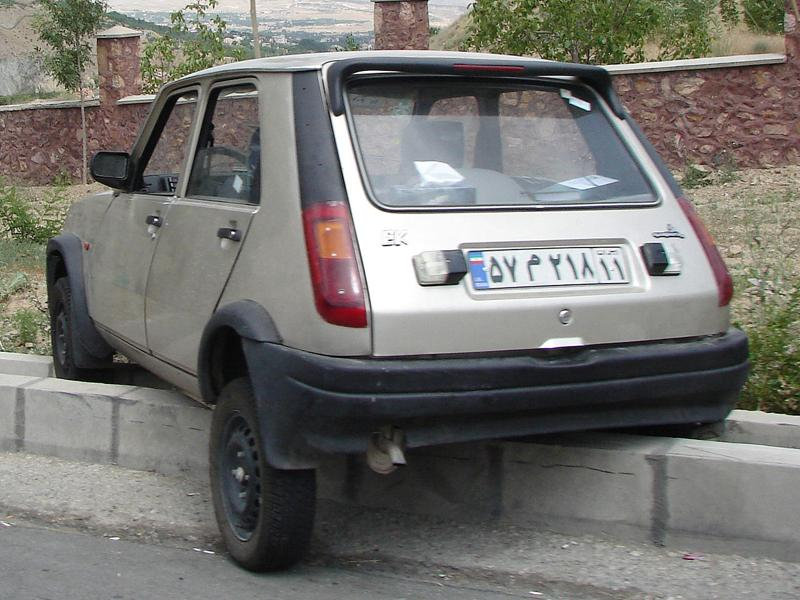Plate: (464, 244, 641, 292)
